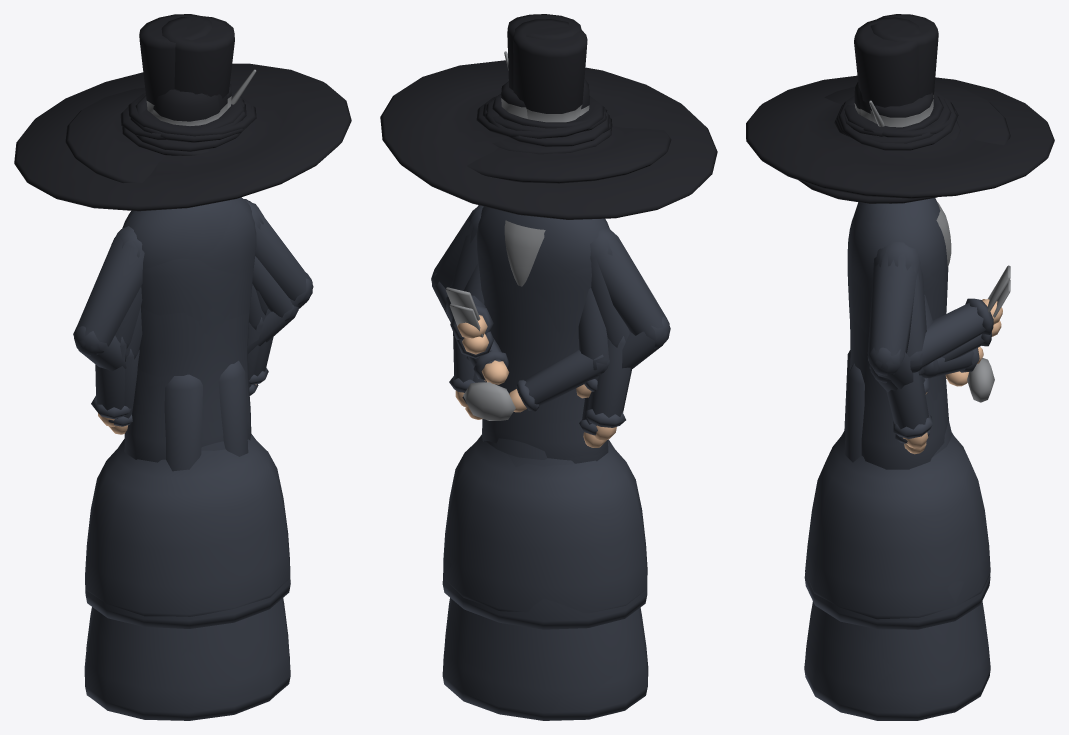
Rendered from crowd_set_10.glb.
3 renders of one model, left to right at view 1: azimuth 30°, elevation 25°; view 2: azimuth 150°, elevation 25°; view 3: azimuth 270°, elevation 25°, orthographic.
Parts seen in each view (by area): view 1: lady_06_picture, gent_03_bowler, gent_01_top, gent_00_top, lady_05_wide, lady_07_fascinator, gent_02_boater, gent_04_trilby, lady_09_boater, lady_08_cloche; view 2: lady_06_picture, lady_05_wide, gent_01_top, gent_02_boater, gent_03_bowler, lady_08_cloche, gent_04_trilby, lady_09_boater, gent_00_top, lady_07_fascinator; view 3: lady_06_picture, gent_02_boater, gent_00_top, gent_01_top, lady_07_fascinator, lady_05_wide, lady_09_boater, gent_03_bowler, lady_08_cloche, gent_04_trilby.
Part boxes in pixels (left/top/right/bottom): lady_06_picture: left=14, top=63, right=351, bottom=616; gent_03_bowler: left=73, top=89, right=273, bottom=440; gent_01_top: left=91, top=14, right=248, bottom=471; gent_00_top: left=98, top=16, right=268, bottom=462; lady_05_wide: left=65, top=87, right=289, bottom=698; lady_07_fascinator: left=91, top=69, right=288, bottom=720; gent_02_boater: left=116, top=84, right=313, bottom=439; gent_04_trilby: left=124, top=89, right=263, bottom=452; lady_09_boater: left=84, top=126, right=290, bottom=720; lady_08_cloche: left=85, top=368, right=290, bottom=628; lady_06_picture: left=380, top=60, right=717, bottom=613; lady_05_wide: left=443, top=126, right=671, bottom=715; gent_01_top: left=445, top=19, right=631, bottom=427; gent_02_boater: left=431, top=81, right=604, bottom=443; gent_03_bowler: left=449, top=95, right=670, bottom=443; lady_08_cloche: left=442, top=263, right=647, bottom=629; gent_04_trilby: left=450, top=78, right=611, bottom=459; lady_09_boater: left=443, top=123, right=637, bottom=718; gent_00_top: left=449, top=14, right=619, bottom=463; lady_07_fascinator: left=442, top=51, right=648, bottom=720; lady_06_picture: left=746, top=75, right=1054, bottom=619; gent_02_boater: left=838, top=91, right=957, bottom=469; gent_00_top: left=836, top=17, right=951, bottom=459; gent_01_top: left=844, top=14, right=1010, bottom=462; lady_07_fascinator: left=804, top=100, right=1010, bottom=714; lady_05_wide: left=798, top=82, right=1010, bottom=720; lady_09_boater: left=817, top=120, right=989, bottom=716; gent_03_bowler: left=843, top=91, right=948, bottom=469; lady_08_cloche: left=804, top=295, right=994, bottom=629; gent_04_trilby: left=834, top=82, right=999, bottom=447.
Bounding box in the file's own units: 0.9575 × 2 × 0.8619.
